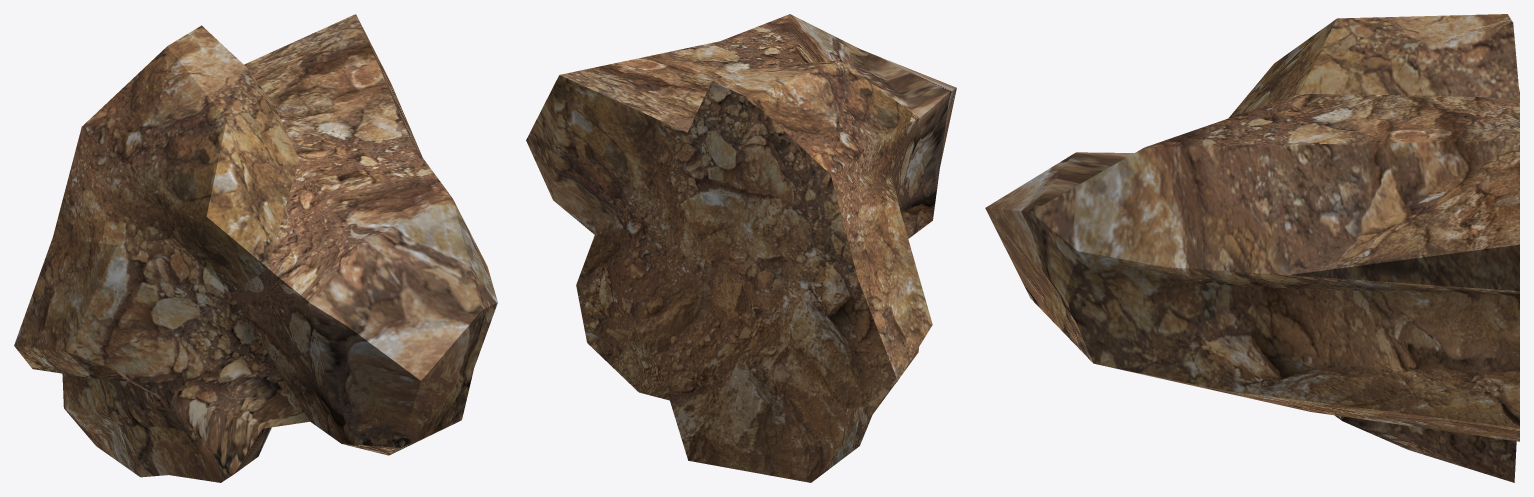
The model's file is mars_rock_2.obj.
3 views of the same model, side by side, from view 1: azimuth 30°, elevation 25°; view 2: azimuth 150°, elevation 25°; view 3: azimuth 270°, elevation 25° (orthographic). The views are drawn at different scales.
Parts seen in each view (by area): view 1: mars_rock_2; view 2: mars_rock_2; view 3: mars_rock_2.
Boxes of the visible parts, x1=… form: mars_rock_2: x1=14, y1=14, x2=497, y2=482; mars_rock_2: x1=526, y1=14, x2=956, y2=482; mars_rock_2: x1=985, y1=14, x2=1519, y2=482.
Size of the model in its own units: 26.9 by 27.05 by 29.32.
